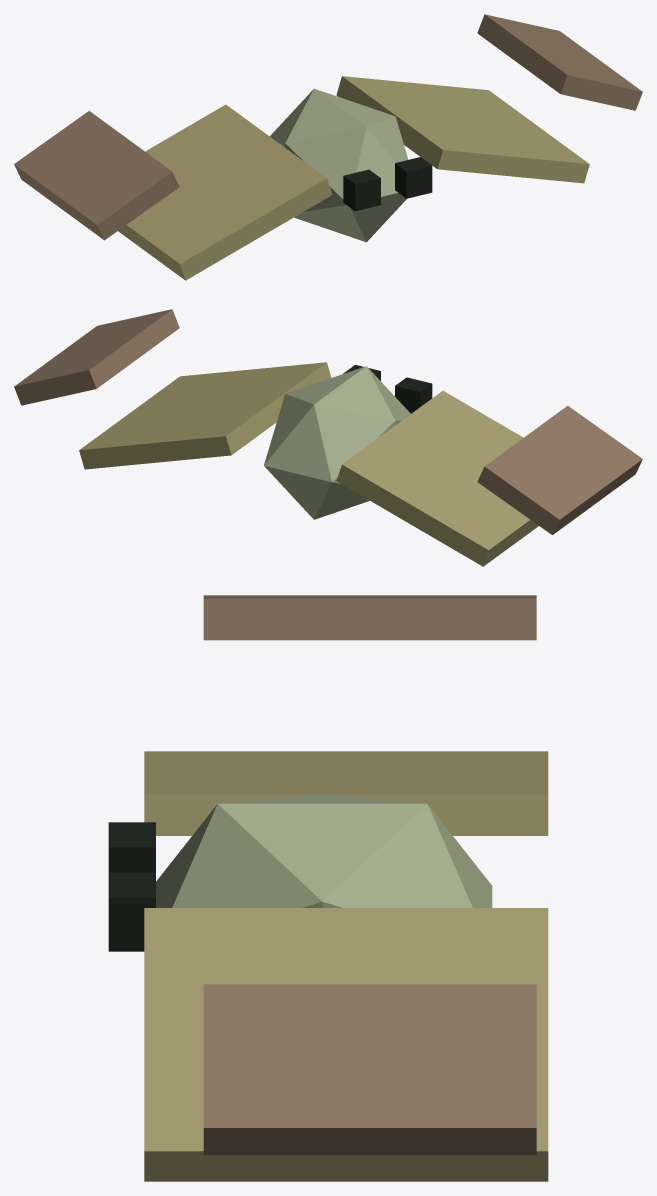
Rendered from flitter.glb.
The picture shows the model from 3 angles, top to bottom: view 1: azimuth 30°, elevation 25°; view 2: azimuth 150°, elevation 25°; view 3: azimuth 270°, elevation 25°; orthographic projection. The views are drawn at different scales.
Visible parts, largest first — view 1: WingR, WingL, TipR, Body, TipL, EyeR, EyeL; view 2: WingR, WingL, Body, TipR, TipL, EyeR; view 3: TipL, WingL, Body, WingR, TipR, EyeL, EyeR.
Boxes of the visible parts, x1=… form: WingR: x1=118, y1=104, x2=332, y2=280; WingL: x1=336, y1=76, x2=589, y2=183; TipR: x1=14, y1=111, x2=179, y2=240; Body: x1=270, y1=88, x2=408, y2=242; TipL: x1=477, y1=14, x2=642, y2=110; EyeR: x1=343, y1=169, x2=380, y2=211; EyeL: x1=395, y1=157, x2=432, y2=198; WingR: x1=336, y1=391, x2=538, y2=566; WingL: x1=79, y1=362, x2=331, y2=469; Body: x1=264, y1=366, x2=410, y2=519; TipR: x1=477, y1=405, x2=642, y2=534; TipL: x1=14, y1=309, x2=179, y2=405; EyeR: x1=395, y1=377, x2=432, y2=413; TipL: x1=203, y1=984, x2=536, y2=1155; WingL: x1=144, y1=908, x2=548, y2=1181; Body: x1=156, y1=794, x2=492, y2=907; WingR: x1=144, y1=751, x2=548, y2=835; TipR: x1=203, y1=595, x2=536, y2=640; EyeL: x1=108, y1=872, x2=155, y2=951; EyeR: x1=108, y1=822, x2=155, y2=872.
Bounding box in the file's own units: 1.06 × 0.2257 × 0.37.
